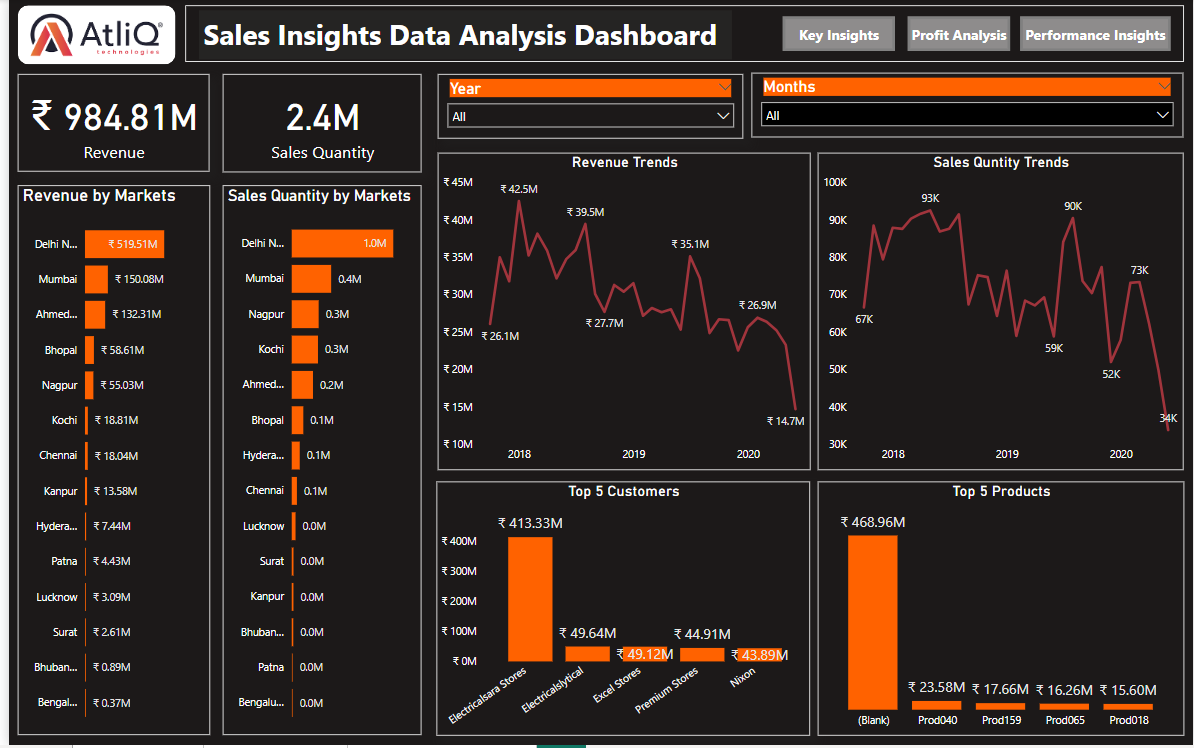

The dashboard page shown, as its layout file describes it:
{"tool":"powerbi","page":{"name":"key insights","canvas":[1350,850],"ordinal":0},"visuals":[{"type":"card","fields":{"Values":["keymeasure.Revenue"]},"box":[10.1,85.4,218.5,111.4],"z":0},{"type":"card","fields":{"Values":["keymeasure.sales quntity"]},"box":[243.3,85,226.7,111.7],"z":1000},{"type":"barChart","title":"Revenue by Markets","fields":{"Y":["keymeasure.Revenue"],"Category":["sales markets.markets_name"]},"box":[9.8,212.1,219.2,626.6],"z":2000},{"type":"barChart","title":"Sales Quantity by Markets","fields":{"Y":["keymeasure.sales quntity"],"Category":["sales markets.markets_name"]},"box":[243.3,211.7,226.7,626.7],"z":3000},{"type":"slicer","fields":{"Values":["sales date.year"]},"box":[488.3,85,348.3,73.3],"z":4000},{"type":"slicer","fields":{"Values":["sales date.cy_date"]},"box":[846.7,83.3,491.7,73.3],"z":5000},{"type":"columnChart","title":"Top 5 Customers","fields":{"Category":["sales customers.custmer_name"],"Y":["keymeasure.Revenue"]},"box":[487.5,549.3,425.7,289.4],"z":6000},{"type":"columnChart","title":"Top 5 Products","fields":{"Category":["sales products.product_code"],"Y":["keymeasure.Revenue"]},"box":[921.7,549.3,417.3,289.4],"z":7000},{"type":"lineChart","title":"Revenue Trends","fields":{"Y":["keymeasure.Revenue"],"Category":["sales date.cy_date"]},"box":[488.3,175,425,361.7],"z":8000},{"type":"lineChart","title":"Sales Quntity Trends","fields":{"Y":["keymeasure.sales quntity"],"Category":["sales date.cy_date"]},"box":[921.7,175,416.7,361.7],"z":9000},{"type":"shape","box":[200.9,7,1138,64.6],"z":10000},{"type":"shape","box":[9.8,7,179.8,67.4],"z":11000},{"type":"image","box":[14,7,171.4,67.4],"z":12000},{"type":"actionButton","box":[882.3,19.7,127.9,39.3],"z":13000},{"type":"actionButton","box":[1024.2,19.7,116.6,39.3],"z":14000},{"type":"actionButton","box":[1152.1,19.7,171.4,39.3],"z":15000},{"type":"textbox","box":[216.4,12.6,606.9,56.2],"z":16000}]}

Visuals, with their boxes in screenshot pixels (x1, y1, x2, y2), scaled from the page's 1350x850 canvas onto the 1194x748 screenshot:
card - keymeasure.Revenue: detection(9, 75, 202, 173)
card - keymeasure.sales quntity: detection(215, 75, 416, 173)
"Revenue by Markets" barChart: detection(9, 187, 203, 738)
"Sales Quantity by Markets" barChart: detection(215, 186, 416, 738)
slicer - sales date.year: detection(432, 75, 740, 139)
slicer - sales date.cy_date: detection(749, 73, 1184, 138)
"Top 5 Customers" columnChart: detection(431, 483, 808, 738)
"Top 5 Products" columnChart: detection(815, 483, 1184, 738)
"Revenue Trends" lineChart: detection(432, 154, 808, 472)
"Sales Quntity Trends" lineChart: detection(815, 154, 1184, 472)
shape: detection(178, 6, 1184, 63)
shape: detection(9, 6, 168, 65)
image: detection(12, 6, 164, 65)
actionButton: detection(780, 17, 893, 52)
actionButton: detection(906, 17, 1009, 52)
actionButton: detection(1019, 17, 1171, 52)
textbox: detection(191, 11, 728, 61)
